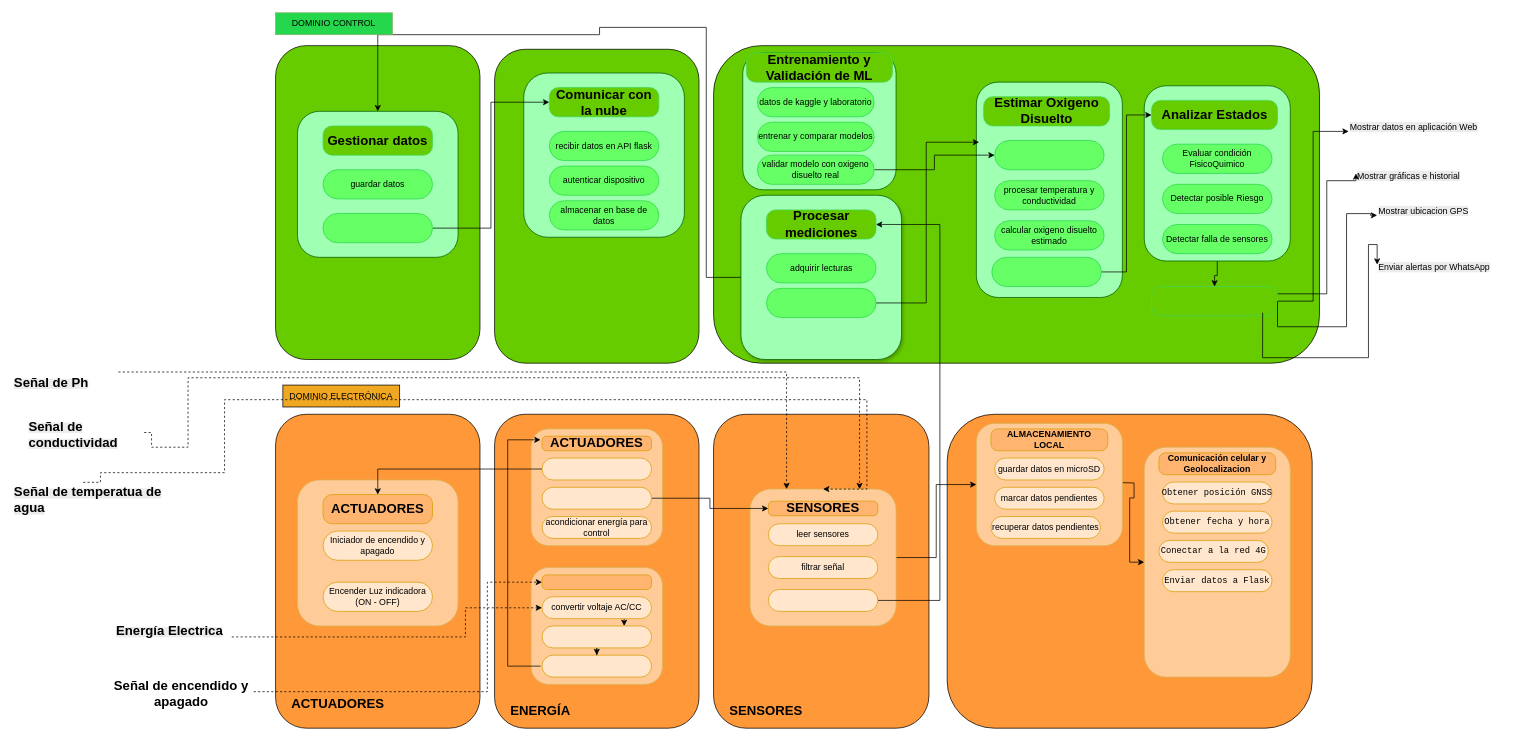
This 1528x748 diagram has some shape labels left out. Each missing label, with the centre of its shape:
acondicionar energía para sensores: (596,498)
acondicionar energía para sistemas: (596,468)
almacenar energia: (596,636)
aplicar calibracion: (821,303)
cargar modelo ML validado: (1049,155)
convertir señal A/D: (823,600)
energizar sistema: (596,665)
Energía Sistema: (596,581)
Notificar al usuario: (1214,301)
registrar incertidumbre: (1046,272)
sincronizar datos pendientes: (377,228)
